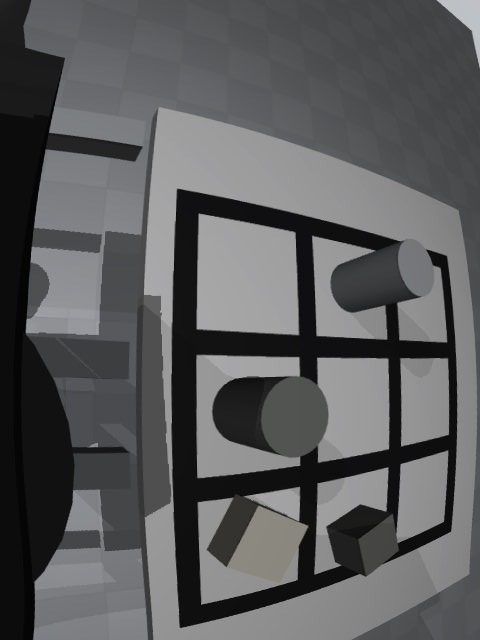can: (330, 239, 435, 313)
cube: (326, 505, 399, 577)
cylinder: (212, 376, 329, 457)
foam: (206, 494, 309, 583)
